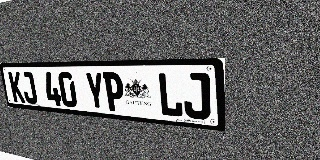0: (57, 72, 78, 108)
4: (43, 72, 62, 106)
J: (182, 73, 211, 120), (20, 72, 38, 104)
K: (8, 72, 25, 103)
L: (157, 72, 184, 118)
P: (102, 72, 126, 112)
Y: (84, 72, 106, 111)
